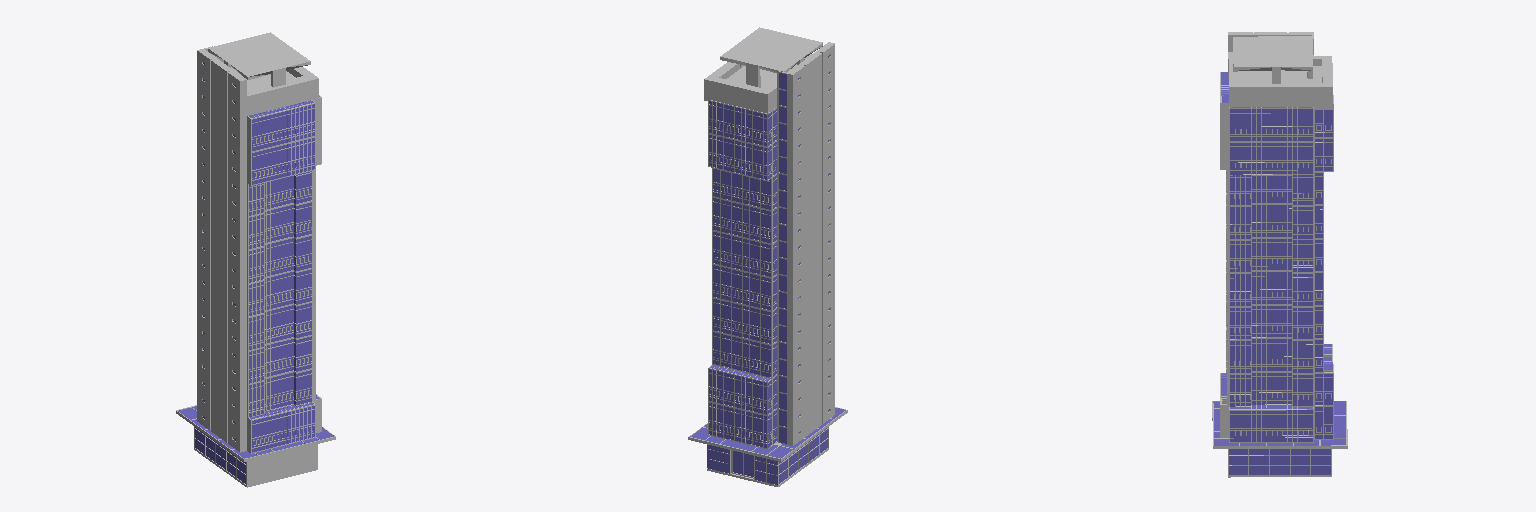
File: city.obj
The picture shows the model from 3 angles: view 1: azimuth 30°, elevation 25°; view 2: azimuth 150°, elevation 25°; view 3: azimuth 270°, elevation 25°; orthographic projection.
Parts seen in each view (by area): view 1: skyscraper7.010_Cube.071; view 2: skyscraper7.010_Cube.071; view 3: skyscraper7.010_Cube.071.
Part boxes in pixels (x1,y1,x2,y2): skyscraper7.010_Cube.071: (176,32,335,487); skyscraper7.010_Cube.071: (688,27,847,486); skyscraper7.010_Cube.071: (1212,32,1347,477).
Size of the model in its own units: 2.21 by 9.24 by 2.78.